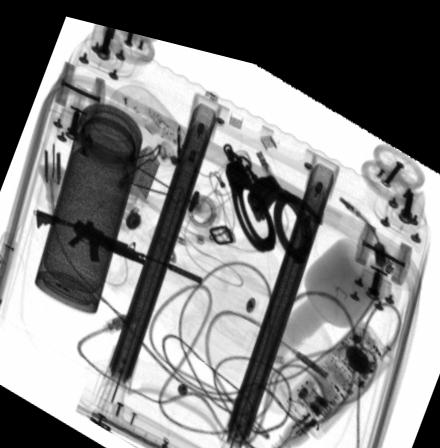Gun: (30, 204, 202, 273)
HandCuffs: (221, 129, 323, 250)
